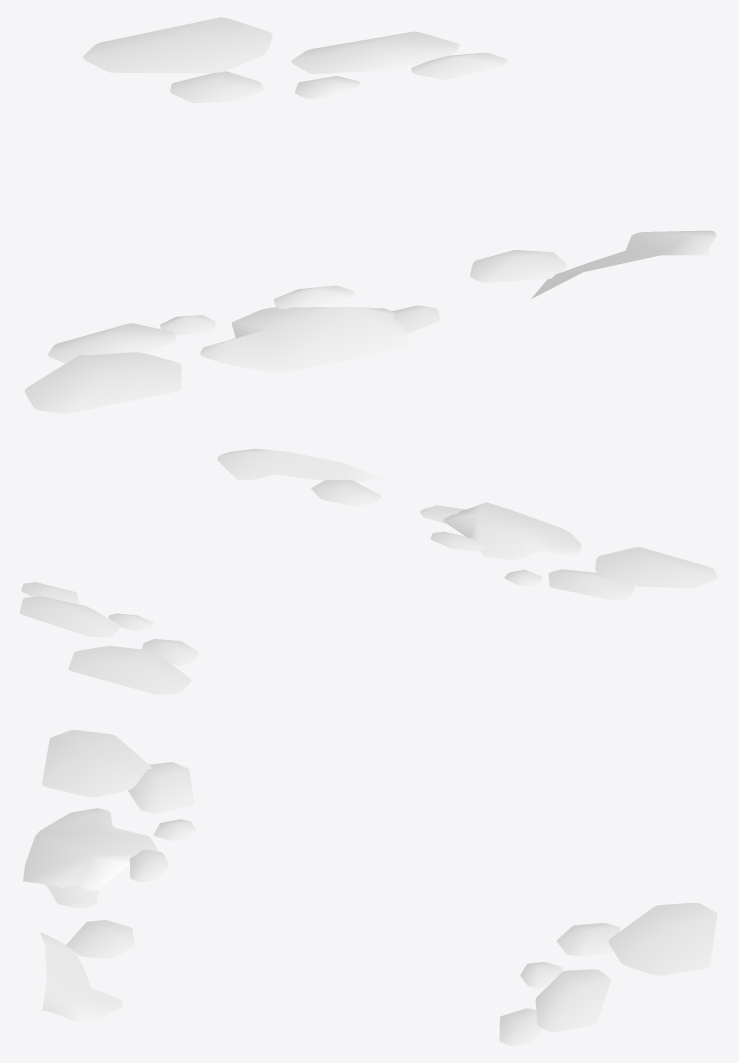
The model's file is ground_normal_cloud.fbx.
3 renders of one model, top to bottom at view 1: azimuth 30°, elevation 25°; view 2: azimuth 150°, elevation 25°; view 3: azimuth 270°, elevation 25°, orthographic. The views are drawn at different scales.
Visible parts, largest first — view 1: ground_normal_cloud; view 2: ground_normal_cloud; view 3: ground_normal_cloud.
Part boxes in pixels (box(x1,y1,x2,y2)): ground_normal_cloud: box(24, 17, 716, 413); ground_normal_cloud: box(19, 448, 717, 694); ground_normal_cloud: box(23, 730, 717, 1045).
Bounding box in the file's own units: 168362 × 6364 × 158371.
